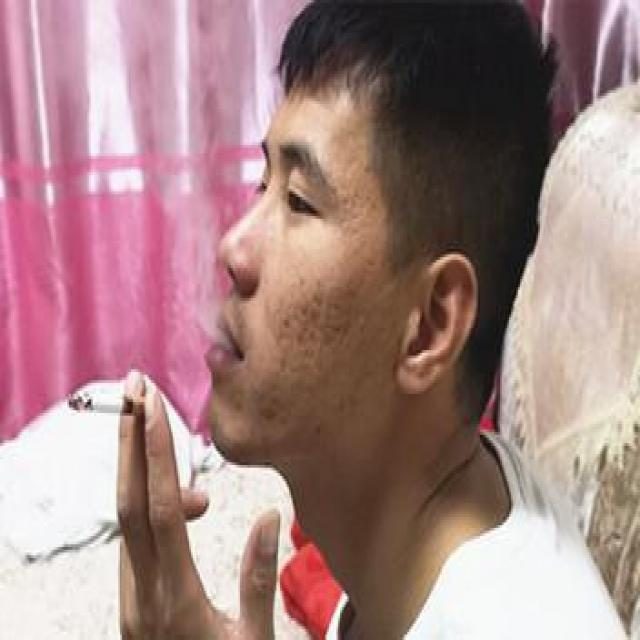smoke: (53, 369, 162, 435)
